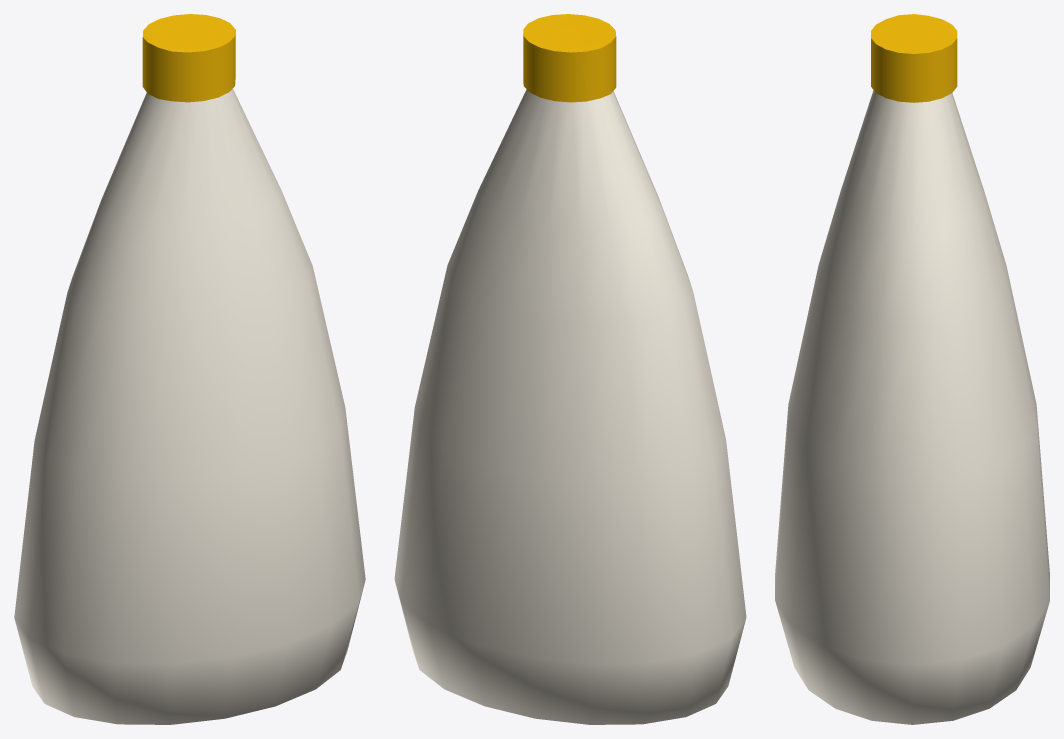
File: 마요네즈 0.fbx
3 renders of one model, left to right at view 1: azimuth 30°, elevation 25°; view 2: azimuth 150°, elevation 25°; view 3: azimuth 270°, elevation 25°, orthographic. The views are drawn at different scales.
Parts seen in each view (by area): view 1: Cylinder001; view 2: Cylinder001; view 3: Cylinder001.
Part boxes in pixels (x1=…): Cylinder001: x1=14, y1=14, x2=365, y2=724; Cylinder001: x1=394, y1=14, x2=746, y2=724; Cylinder001: x1=775, y1=14, x2=1049, y2=724.
Size of the model in its own units: 34 by 64.42 by 25.66.
Materials: 1 (1 with a texture image).
